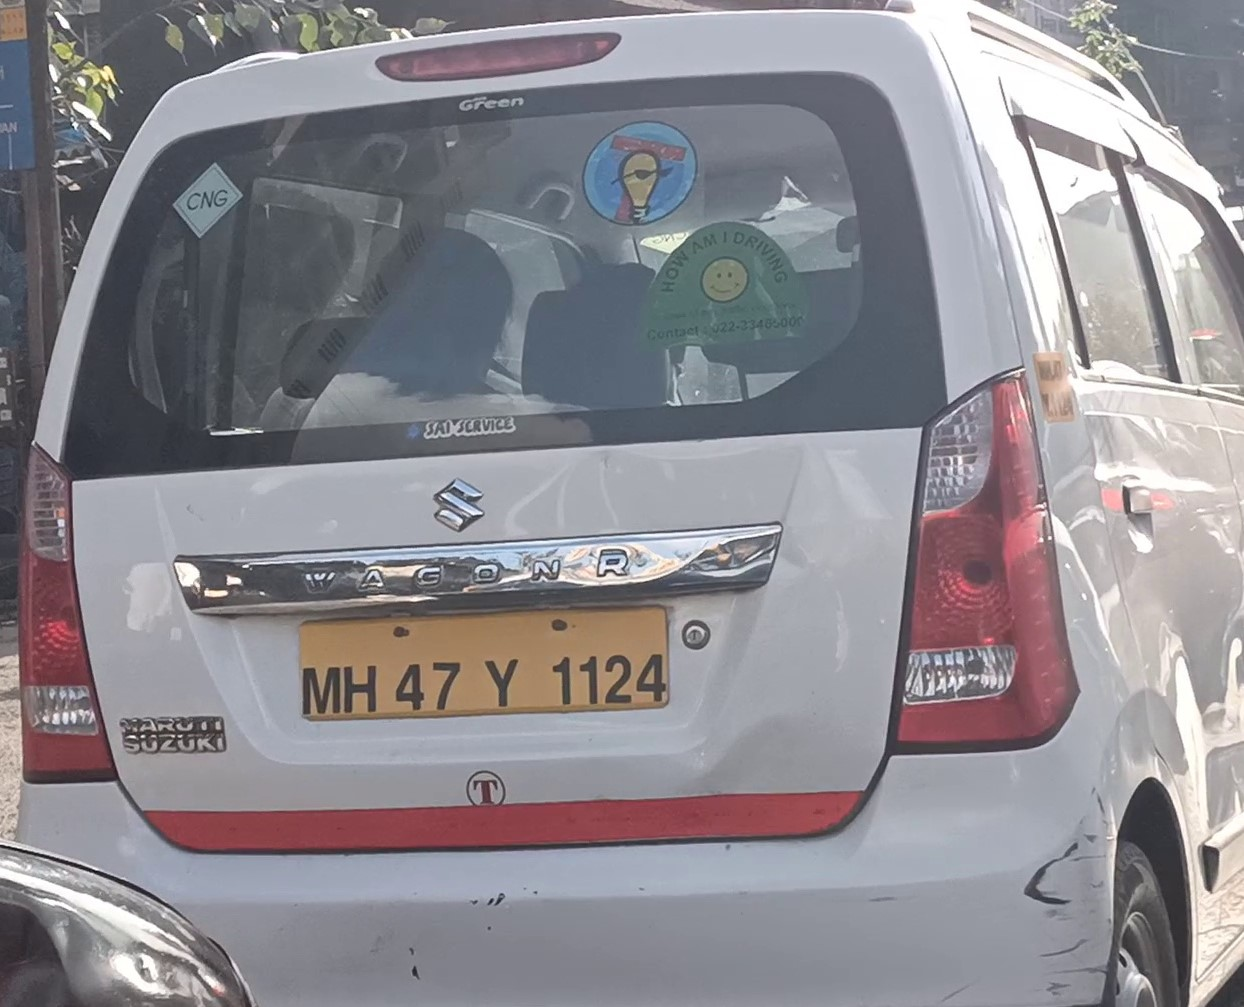MH47Y1124: (298, 608, 671, 720)
